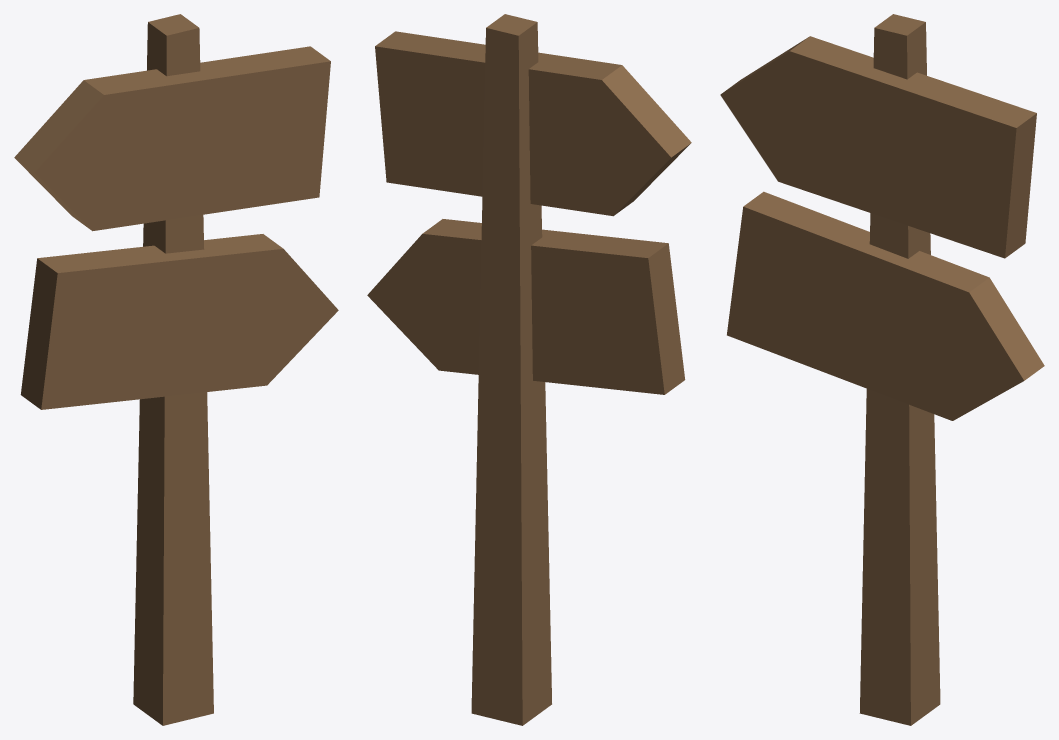
The model's file is wayfinding-sign.glb.
3 renders of one model, left to right at view 1: azimuth 30°, elevation 25°; view 2: azimuth 150°, elevation 25°; view 3: azimuth 330°, elevation 25°, orthographic.
Visible parts, largest first — view 1: signpost; view 2: signpost; view 3: signpost.
Part boxes in pixels (x1,y1,x2,y2): signpost: (14,14,338,725); signpost: (367,14,691,725); signpost: (720,14,1044,725).
Size of the model in its own units: 0.9308 by 2 by 0.1868.
